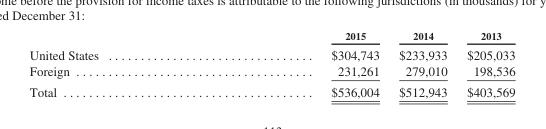table: (28, 29, 514, 98)
table column: (28, 29, 214, 98), (214, 29, 388, 98), (388, 29, 456, 98), (456, 29, 514, 98)
table column header: (28, 29, 514, 44)
table row: (28, 44, 514, 62), (28, 62, 514, 80), (28, 80, 514, 98), (28, 29, 514, 44)
